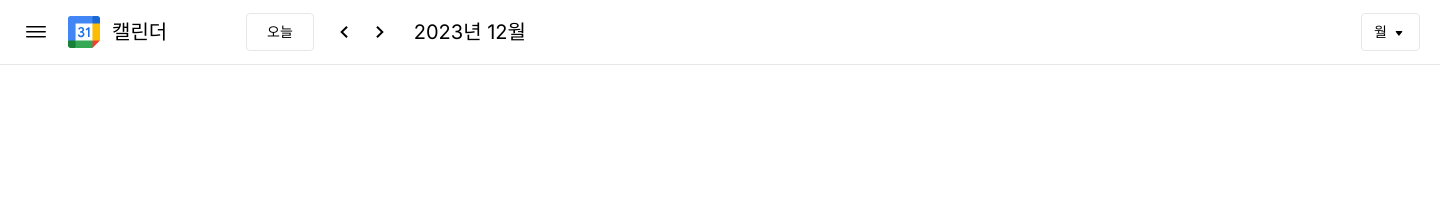
왼쪽 및 오른쪽 버튼 기능 › 월 단위로 선택 후 오른쪽 버튼 클릭 시 다음 달 1일로 변경된다.
The width and height of the screenshot is (1440, 201).
Note: 오른쪽 버튼 클릭 시 다음 달로 이동
Click the button named "right button".
click(380, 32)  # box top-left (362, 14), bottom-right (398, 50)
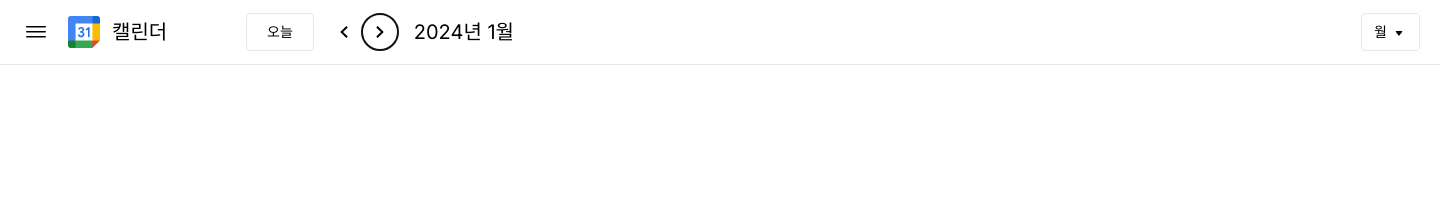
Note: 달력 유닛을 일로 선택
Click the button named "calendar view unit button".
click(1391, 32)  # box top-left (1361, 13), bottom-right (1420, 51)
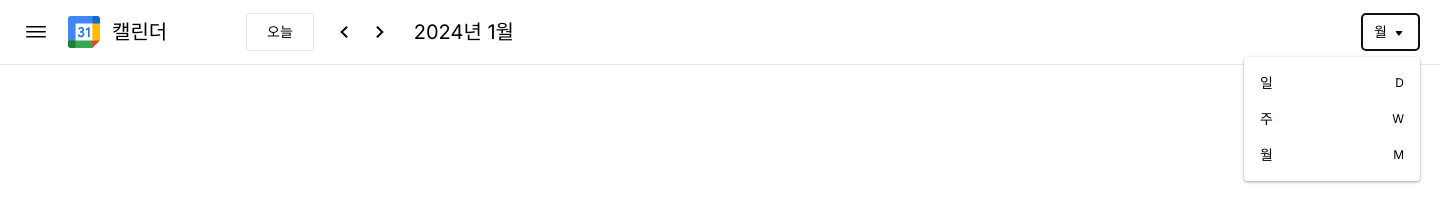
Click the button "일 D".
click(1332, 83)  # box top-left (1244, 65), bottom-right (1420, 101)
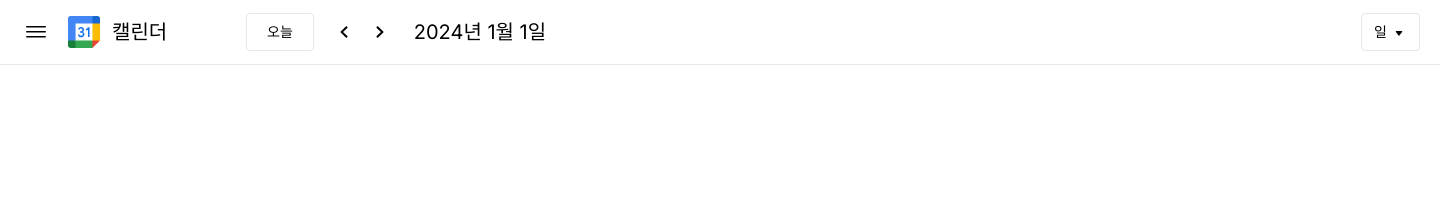
Check: the text named "selected date" reads "2024년 1월 1일", box top-left (414, 20), bottom-right (546, 44)
